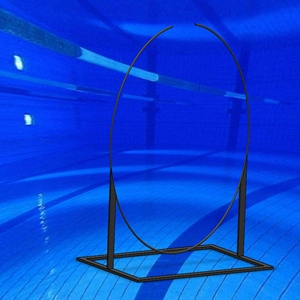circle: (76, 22, 274, 284)
